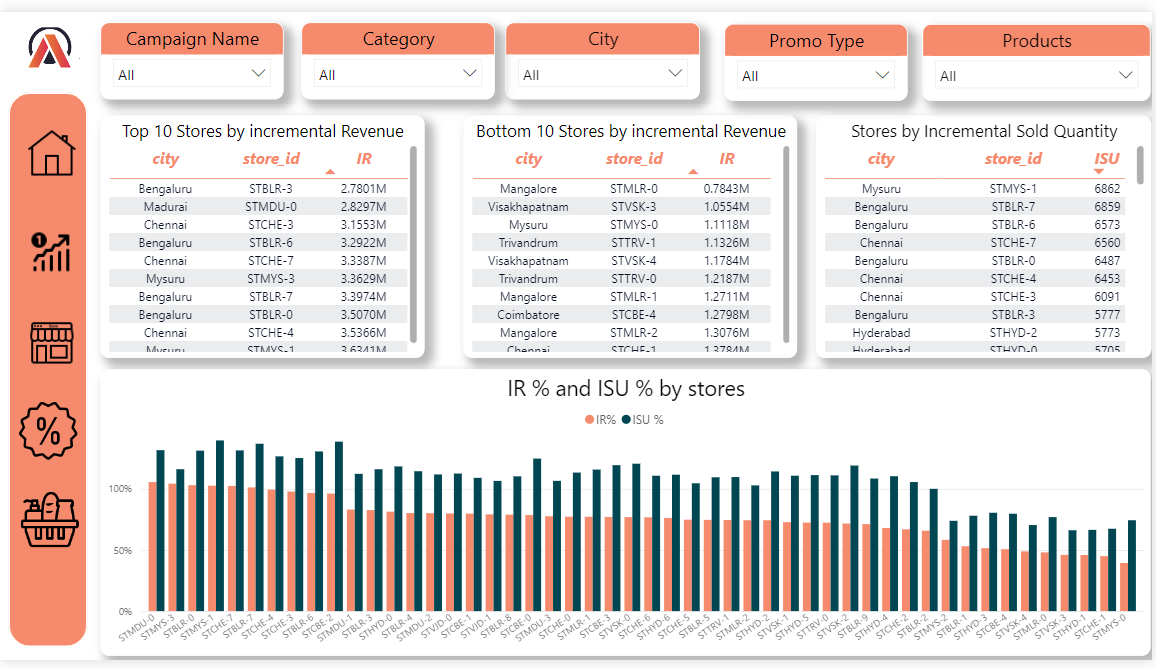

The dashboard page shown, as its layout file describes it:
{"tool":"powerbi","page":{"name":"Store Performance Analysis","canvas":[1280,720],"ordinal":2},"visuals":[{"type":"image","box":[11.7,11.7,81.7,55],"z":0},{"type":"slicer","title":"Campaign Name","fields":{"Values":["retail_events_db dim_campaigns.campaign_name"]},"box":[111.3,11.3,203.2,85.5],"z":1000},{"type":"shape","box":[0,80.6,106.7,635],"z":2000},{"type":"slicer","title":"Category","fields":{"Values":["retail_events_db dim_products.category"]},"box":[335.5,11.3,214.5,85.5],"z":3000},{"type":"image","box":[25,225,65,85],"z":4000},{"type":"image","box":[25,325,65,85],"z":5000},{"type":"slicer","title":"Promo Type","fields":{"Values":["retail_events_db fact_events.promo_type"]},"box":[804.8,12.9,203.2,85.5],"z":6000},{"type":"image","box":[25,115,65,85],"z":7000},{"type":"tableEx","title":"Top 10 Stores by incremental Revenue","fields":{"Values":["retail_events_db dim_stores.city","retail_events_db dim_stores.store_id","retail_events_db fact_events.IR"]},"box":[111.3,114.5,359.7,269.4],"z":8000},{"type":"tableEx","title":"Bottom 10 Stores by incremental Revenue","fields":{"Values":["retail_events_db dim_stores.city","retail_events_db dim_stores.store_id","retail_events_db fact_events.IR"]},"box":[514.5,114.5,371,269.4],"z":9000},{"type":"image","box":[14,425,80,80],"z":10000},{"type":"image","box":[15,525,80,80],"z":11000},{"type":"tableEx","title":"Stores by Incremental Sold Quantity","fields":{"Values":["retail_events_db dim_stores.city","retail_events_db dim_stores.store_id","retail_events_db fact_events.ISU"]},"box":[906.5,114.5,372.6,269.4],"z":12000},{"type":"clusteredColumnChart","title":"IR % and ISU % by stores","fields":{"Category":["retail_events_db fact_events.store_id"],"Y":["retail_events_db fact_events.IR%","retail_events_db fact_events.ISU %"]},"box":[111.7,396.7,1166.7,318.3],"z":13000},{"type":"slicer","title":"City","fields":{"Values":["retail_events_db dim_stores.city"]},"box":[561.3,11.3,216.1,85.5],"z":14000},{"type":"actionButton","box":[0,0,100,40],"z":15000},{"type":"slicer","title":"Products","fields":{"Values":["retail_events_db dim_products.product_name"]},"box":[1025,13.3,253.3,85],"z":16000}]}

Visuals, with their boxes in screenshot pixels (x1, y1, x2, y2), scaled from the page's 1280x720 canvas onto the 1156x669 screenshot:
image: (x1=11, y1=11, x2=84, y2=62)
"Campaign Name" slicer: (x1=101, y1=10, x2=284, y2=90)
shape: (x1=0, y1=75, x2=96, y2=665)
"Category" slicer: (x1=303, y1=10, x2=497, y2=90)
image: (x1=23, y1=209, x2=81, y2=288)
image: (x1=23, y1=302, x2=81, y2=381)
"Promo Type" slicer: (x1=727, y1=12, x2=910, y2=91)
image: (x1=23, y1=107, x2=81, y2=186)
"Top 10 Stores by incremental Revenue" tableEx: (x1=101, y1=106, x2=425, y2=357)
"Bottom 10 Stores by incremental Revenue" tableEx: (x1=465, y1=106, x2=800, y2=357)
image: (x1=13, y1=395, x2=85, y2=469)
image: (x1=14, y1=488, x2=86, y2=562)
"Stores by Incremental Sold Quantity" tableEx: (x1=819, y1=106, x2=1155, y2=357)
"IR % and ISU % by stores" clusteredColumnChart: (x1=101, y1=369, x2=1155, y2=664)
"City" slicer: (x1=507, y1=10, x2=702, y2=90)
actionButton: (x1=0, y1=0, x2=90, y2=37)
"Products" slicer: (x1=926, y1=12, x2=1154, y2=91)
